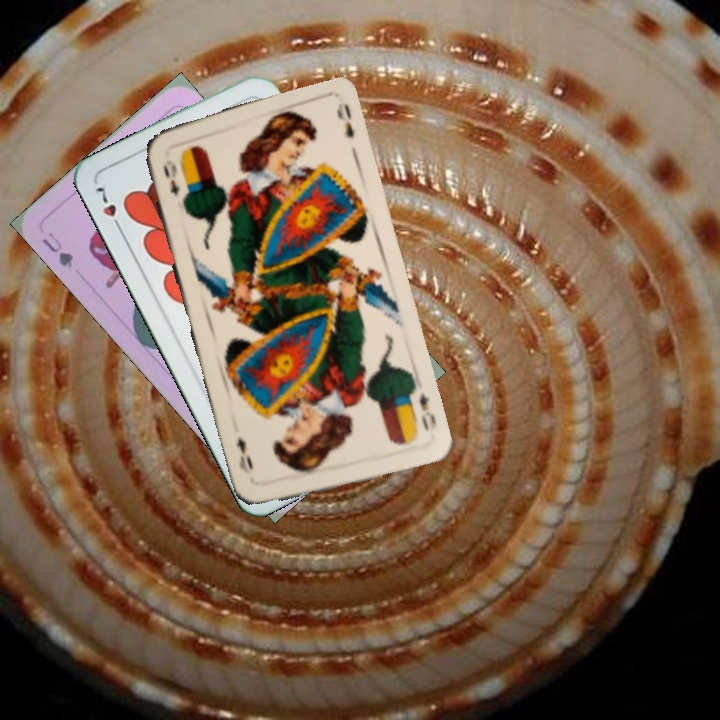EO: (415, 388, 439, 434), (159, 155, 182, 198)
GU: (38, 228, 77, 271)
H7: (91, 179, 126, 235)
